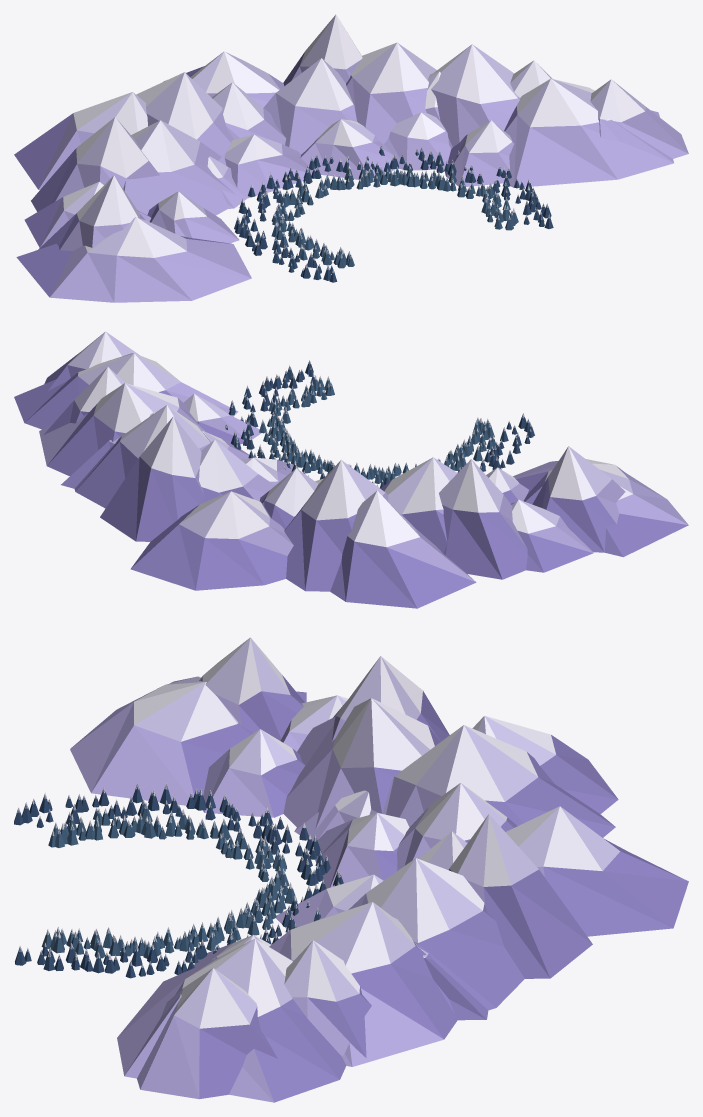
The model's file is ws-far.glb.
The picture shows the model from 3 angles, top to bottom: view 1: azimuth 30°, elevation 25°; view 2: azimuth 150°, elevation 25°; view 3: azimuth 270°, elevation 25°; orthographic projection. The views are drawn at different scales.
Visible parts, largest first — view 1: Mountains, Forest; view 2: Mountains, Forest; view 3: Mountains, Forest.
Boxes of the visible parts, x1=… form: Mountains: x1=14, y1=14, x2=688, y2=302; Forest: x1=234, y1=145, x2=553, y2=282; Mountains: x1=14, y1=331, x2=688, y2=608; Forest: x1=225, y1=360, x2=534, y2=487; Mountains: x1=70, y1=637, x2=688, y2=1102; Forest: x1=14, y1=783, x2=343, y2=978.
Bounding box in the file's own units: 735 × 107 × 498.
